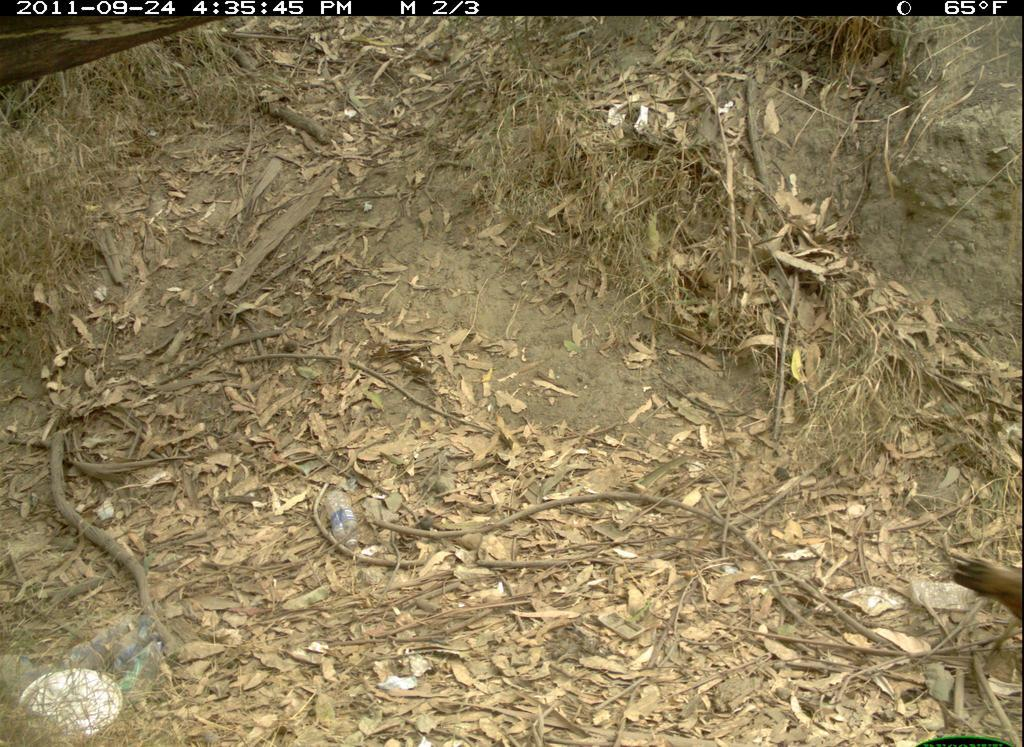bird: (949, 544, 1024, 629)
